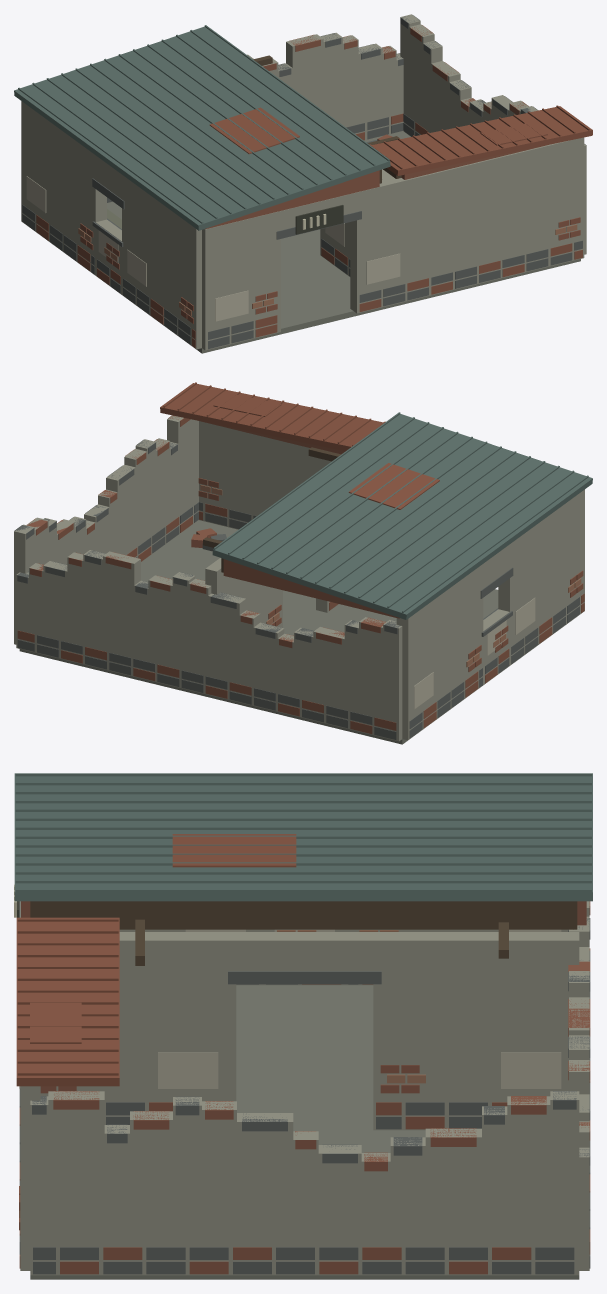
File: FSA_ENV_Quarantine_Building_04_Collapsed.glb
The picture shows the model from 3 angles, top to bottom: view 1: azimuth 30°, elevation 25°; view 2: azimuth 150°, elevation 25°; view 3: azimuth 270°, elevation 25°; orthographic projection. The views are drawn at different scales.
Visible parts, largest first — view 1: Roof_RemnantWest, FrontRight, WestRight, WestLeft, FrontLeft, Floor, Roof_RemnantFront, BackBase, RoofPatch_248, Back_Fracture_13, EastBase, Back_Fracture_14 (+32 smaller); view 2: Roof_RemnantWest, BackBase, WestLeft, FrontRight, WestRight, Floor, Roof_RemnantFront, EastBase, Back_Fracture_13, RoofPatch_248, PartitionLeft, Back_Fracture_8 (+43 smaller); view 3: Roof_RemnantWest, EastBase, PartitionLeft, Floor, PartitionRight, RoofEave_305, Roof_RemnantFront, East_Fracture_13, PartitionLintel, East_Fracture_8, RoofPatch_248, East_Fracture_1 (+36 smaller).
Part boxes in pixels (box(x1,y1,x2,y2)): Roof_RemnantWest: box(14, 26, 390, 230); FrontRight: box(350, 137, 584, 313); WestRight: box(122, 175, 201, 349); WestLeft: box(21, 101, 106, 275); FrontLeft: box(202, 211, 280, 350); Floor: box(107, 131, 580, 353); Roof_RemnantFront: box(372, 106, 592, 175); BackBase: box(107, 82, 403, 203); RoofPatch_248: box(209, 107, 299, 154); Back_Fracture_13: box(286, 34, 323, 103); EastBase: box(403, 82, 586, 254); Back_Fracture_14: box(320, 32, 342, 100); Roof_RemnantWest: box(212, 414, 592, 619); BackBase: box(16, 598, 402, 741); WestLeft: box(396, 564, 483, 740); FrontRight: box(199, 421, 331, 529); WestRight: box(498, 489, 584, 665); Floor: box(19, 520, 498, 744); Roof_RemnantFront: box(160, 383, 382, 451); EastBase: box(14, 470, 198, 644); Back_Fracture_13: box(103, 551, 140, 626); RoofPatch_248: box(348, 463, 439, 509); PartitionLeft: box(205, 558, 282, 627); Back_Fracture_8: box(208, 592, 246, 652); Roof_RemnantWest: box(14, 773, 592, 901); EastBase: box(30, 1197, 579, 1275); PartitionLeft: box(373, 932, 579, 1130); Floor: box(30, 985, 579, 1279); PartitionRight: box(40, 932, 236, 1124); RoofEave_305: box(30, 901, 577, 929); Roof_RemnantFront: box(16, 917, 119, 1086); East_Fracture_13: box(48, 1091, 104, 1197); PartitionLintel: box(236, 932, 373, 971); East_Fracture_8: box(237, 1113, 293, 1197); RoofPatch_248: box(172, 834, 296, 867); East_Fracture_1: box(507, 1096, 550, 1197).
Bounding box in the file's own units: 10.43 × 3.86 × 8.44.
